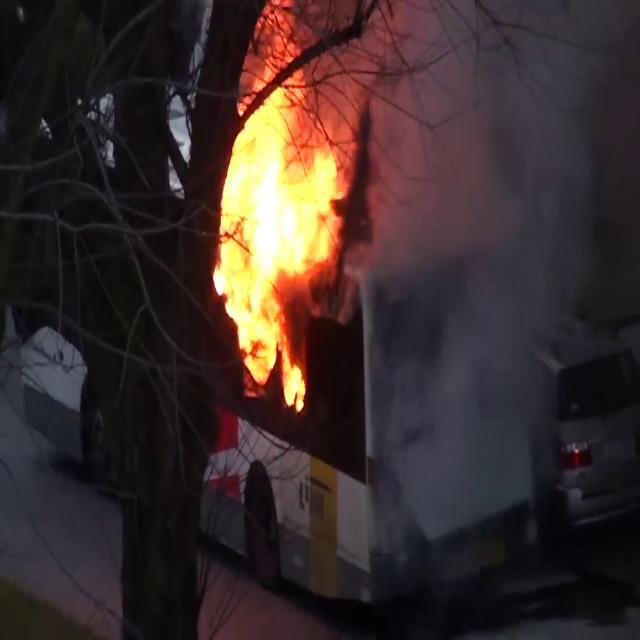Fire: (206, 76, 355, 408)
Smoke: (356, 0, 638, 532)
